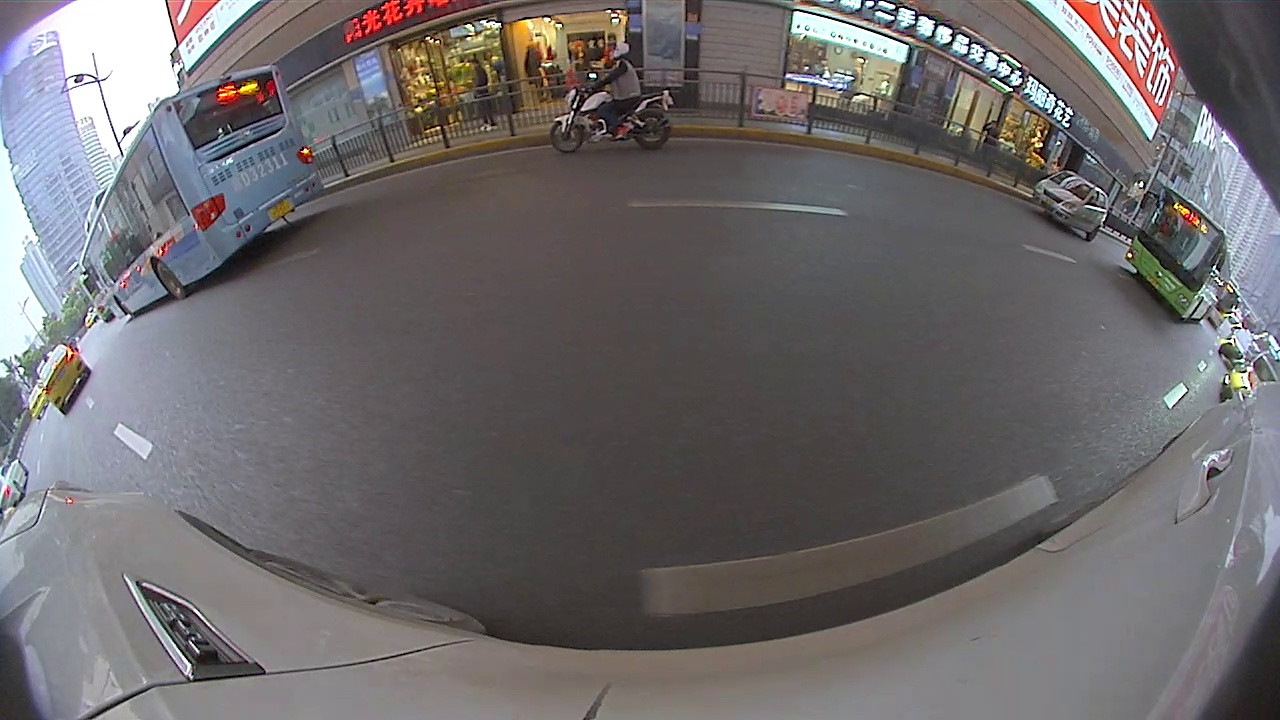bus: (80, 58, 333, 324), (1126, 184, 1230, 328)
car: (1030, 172, 1114, 239), (34, 342, 93, 417)
front: (552, 121, 585, 155)
rear: (141, 262, 190, 302), (632, 114, 673, 147)
rider: (552, 49, 672, 154)
